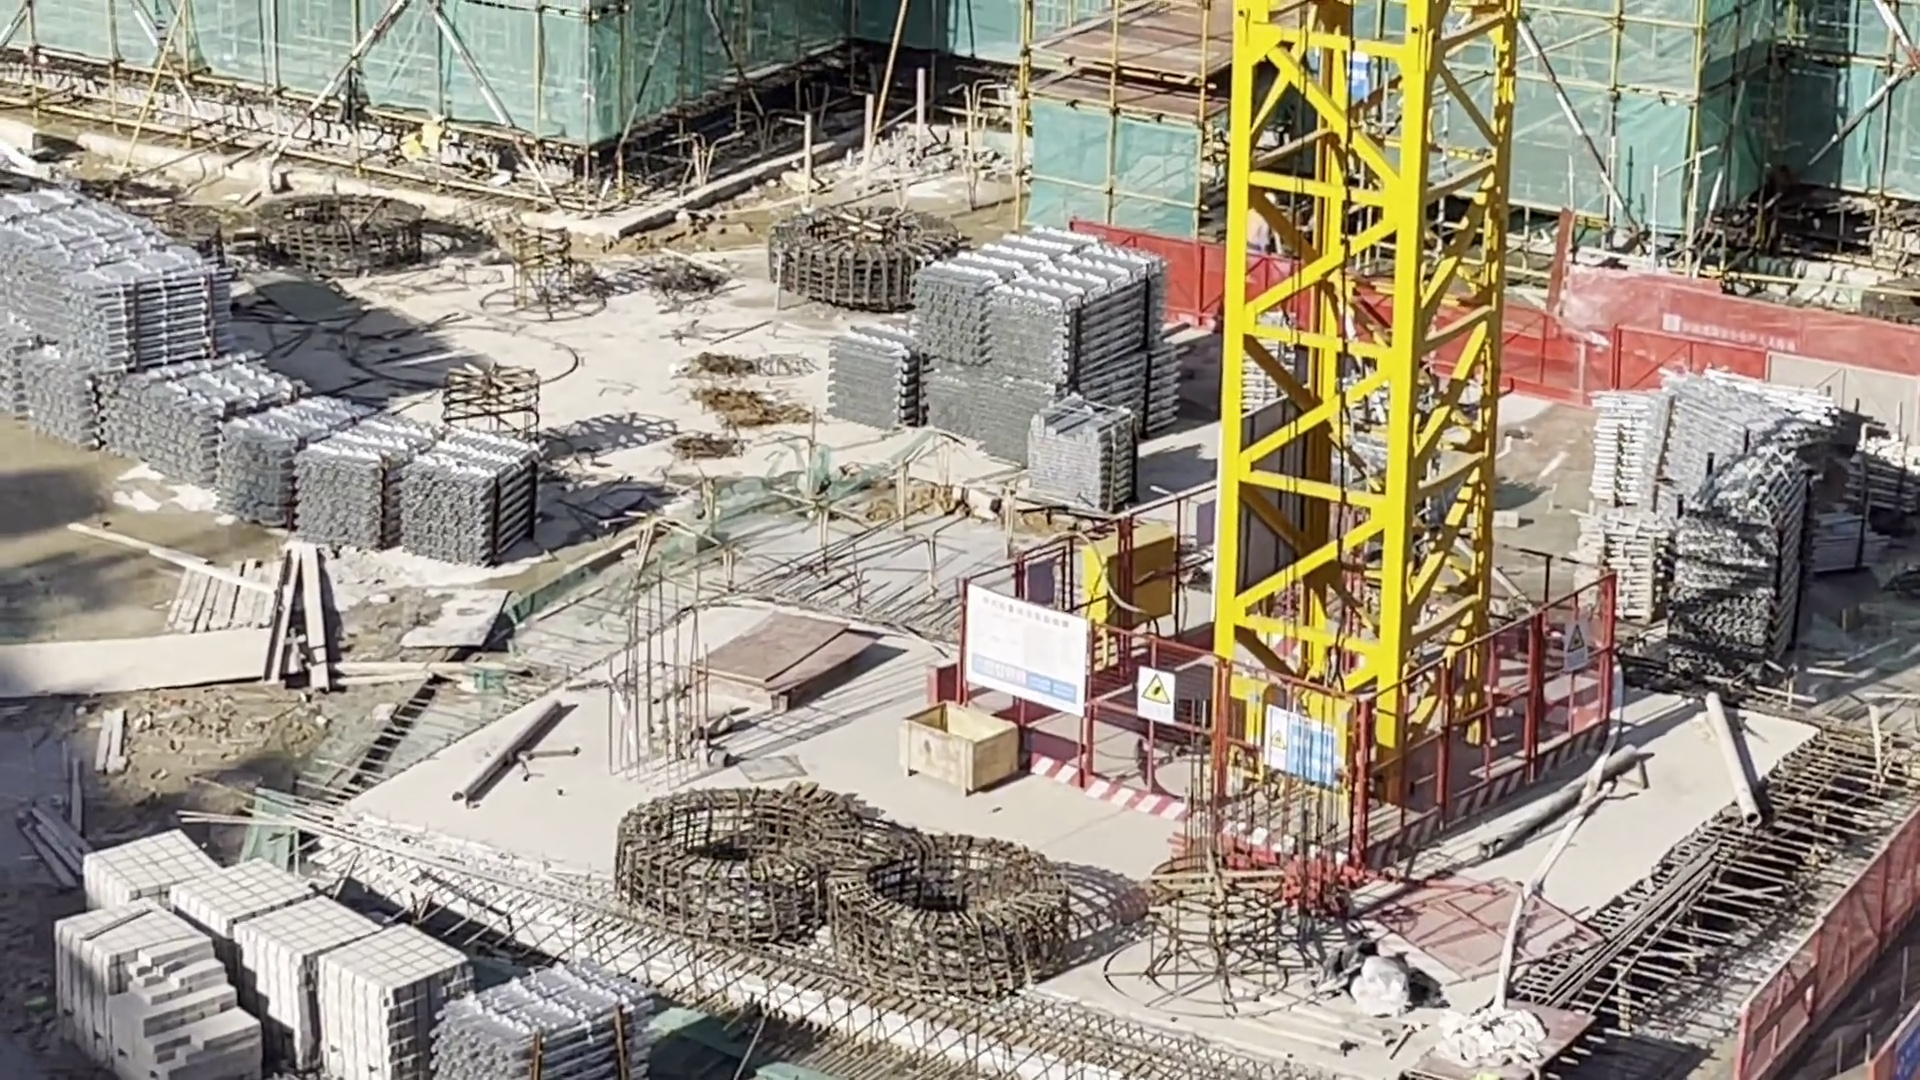board: (702, 611, 858, 713)
brick: (71, 843, 423, 1076)
ebox: (1077, 537, 1178, 650)
fence: (1506, 284, 1920, 421), (1745, 811, 1909, 1080)
scaffold: (923, 231, 1179, 443), (5, 196, 154, 419), (1601, 373, 1822, 514), (439, 972, 654, 1080), (1687, 444, 1793, 661), (402, 431, 539, 572), (294, 414, 435, 547), (225, 396, 367, 520), (67, 257, 227, 361), (144, 367, 293, 477), (1029, 396, 1138, 512), (1575, 497, 1669, 622), (836, 316, 927, 426), (1854, 438, 1919, 520)
slogan: (1269, 707, 1336, 789), (1139, 666, 1179, 723), (1567, 618, 1592, 673)
